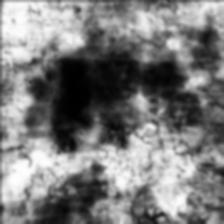Potentially Malignant Skin Tumors: (48, 56, 202, 156)
